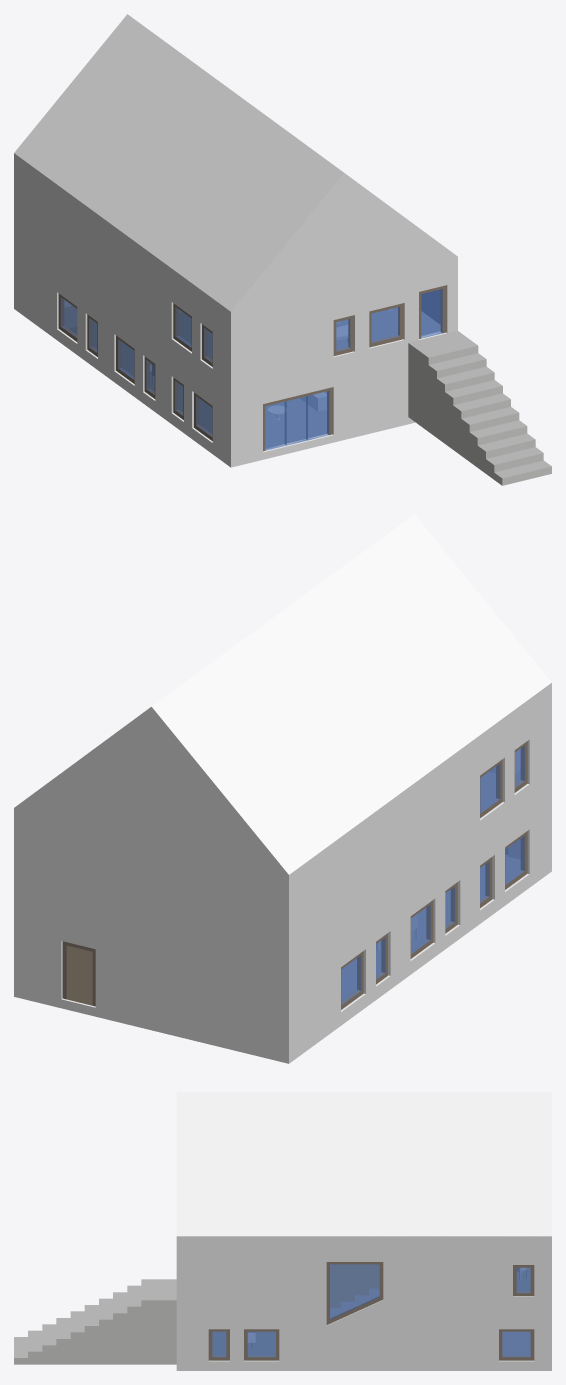
The model's file is wereld2.fbx.
3 views of the same model, one above another, from view 1: azimuth 30°, elevation 25°; view 2: azimuth 150°, elevation 25°; view 3: azimuth 270°, elevation 25° (orthographic). The views are drawn at different scales.
Visible parts, largest first — view 1: n_dak_2_1, n_woning_2_1, n_vloer1, n_ondergrond_2_1, n_deur_glas1, n_deur_glas2, n_deur_glas4, n_deur_glas3, n_raam_d7, n_kozijn1_1, n_kozijn_r1_1; view 2: n_woning_2_1, n_dak_2_1, n_ondergrond_2_1, n_deur1, n_raam_d4, n_raam_d1, n_raam_d3, n_raam_d2; view 3: n_dak_2_1, n_woning_2_1, n_vloer1, n_ondergrond_2_1, n_raam_trap1, n_wanden1, n_kozijn_3_1, n_raam_d5, n_raam_d6, n_kozijn_r1_3, n_kozijn_r1_2, n_trap1 (+4 smaller).
Part boxes in pixels (left/top/right/bottom): n_dak_2_1: left=14, top=14, right=457, bottom=311; n_woning_2_1: left=14, top=153, right=457, bottom=459; n_vloer1: left=179, top=307, right=551, bottom=485; n_ondergrond_2_1: left=14, top=301, right=415, bottom=467; n_deur_glas1: left=306, top=391, right=329, bottom=440; n_deur_glas2: left=285, top=396, right=307, bottom=445; n_deur_glas4: left=421, top=289, right=442, bottom=338; n_deur_glas3: left=265, top=401, right=286, bottom=450; n_raam_d7: left=371, top=307, right=399, bottom=342; n_kozijn1_1: left=263, top=387, right=332, bottom=451; n_kozijn_r1_1: left=369, top=303, right=403, bottom=347; n_woning_2_1: left=14, top=683, right=551, bottom=1054; n_dak_2_1: left=14, top=514, right=551, bottom=874; n_ondergrond_2_1: left=14, top=855, right=551, bottom=1063; n_deur1: left=66, top=945, right=92, bottom=1005; n_raam_d4: left=480, top=764, right=500, bottom=813; n_raam_d1: left=341, top=955, right=361, bottom=1004; n_raam_d3: left=505, top=835, right=524, bottom=884; n_raam_d2: left=411, top=904, right=430, bottom=953; n_dak_2_1: left=176, top=1092, right=551, bottom=1236; n_woning_2_1: left=176, top=1236, right=551, bottom=1364; n_vloer1: left=14, top=1271, right=530, bottom=1364; n_ondergrond_2_1: left=176, top=1332, right=551, bottom=1370; n_raam_trap1: left=330, top=1264, right=379, bottom=1319; n_wanden1: left=330, top=1264, right=379, bottom=1307; n_kozijn_3_1: left=326, top=1262, right=383, bottom=1324; n_raam_d5: left=247, top=1331, right=275, bottom=1357; n_raam_d6: left=502, top=1331, right=530, bottom=1357; n_kozijn_r1_3: left=499, top=1329, right=534, bottom=1360; n_kozijn_r1_2: left=244, top=1329, right=279, bottom=1360; n_trap1: left=330, top=1289, right=379, bottom=1317.
Size of the model in its own units: 32 by 36 by 76.
